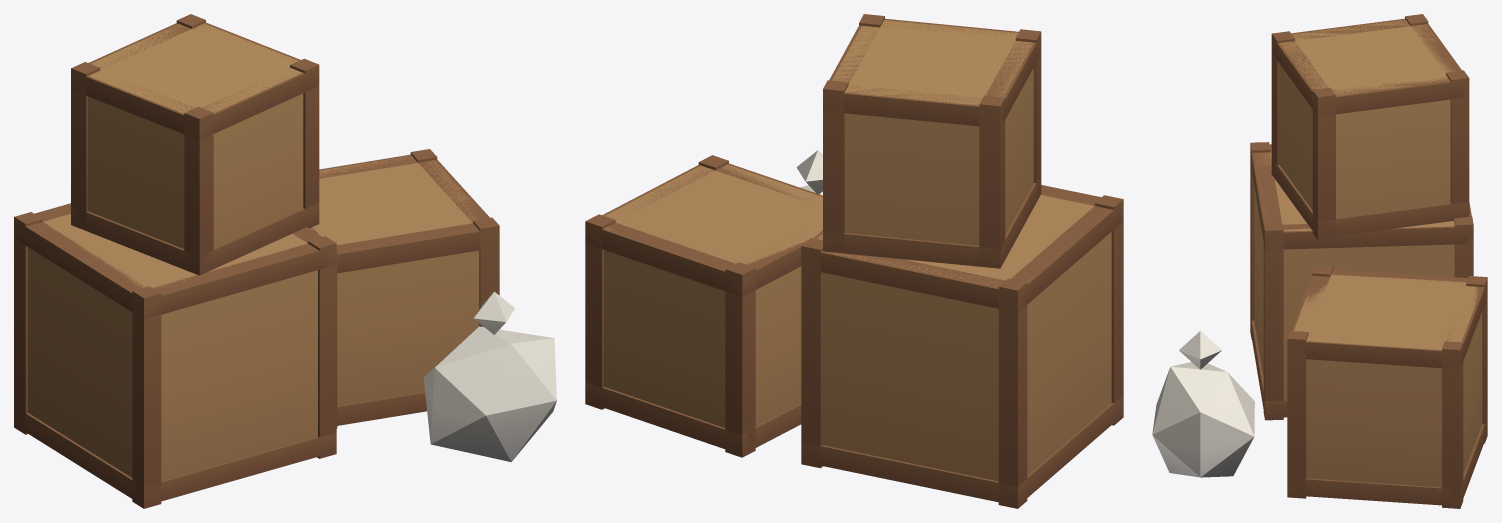
File: crate_stack.glb
3 views of the same model, side by side, from view 1: azimuth 30°, elevation 25°; view 2: azimuth 150°, elevation 25°; view 3: azimuth 270°, elevation 25° (orthographic). The views are drawn at different scales.
Visible parts, largest first — view 1: crate_stack; view 2: crate_stack; view 3: crate_stack.
Boxes of the visible parts, x1,y1,x2,y2 form: crate_stack: (14, 14, 556, 508); crate_stack: (585, 14, 1123, 508); crate_stack: (1152, 14, 1487, 508).
Size of the model in its own units: 5.09 by 4.29 by 3.95.
1 material, 1 textured.
